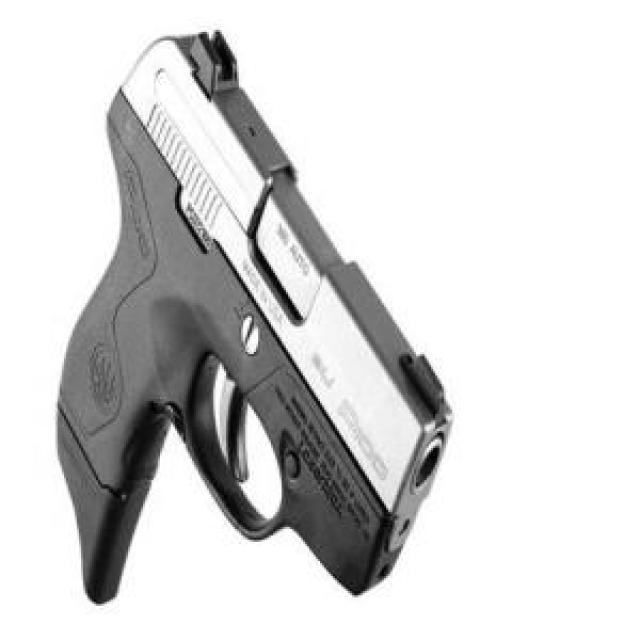pistol: (26, 19, 453, 606)
